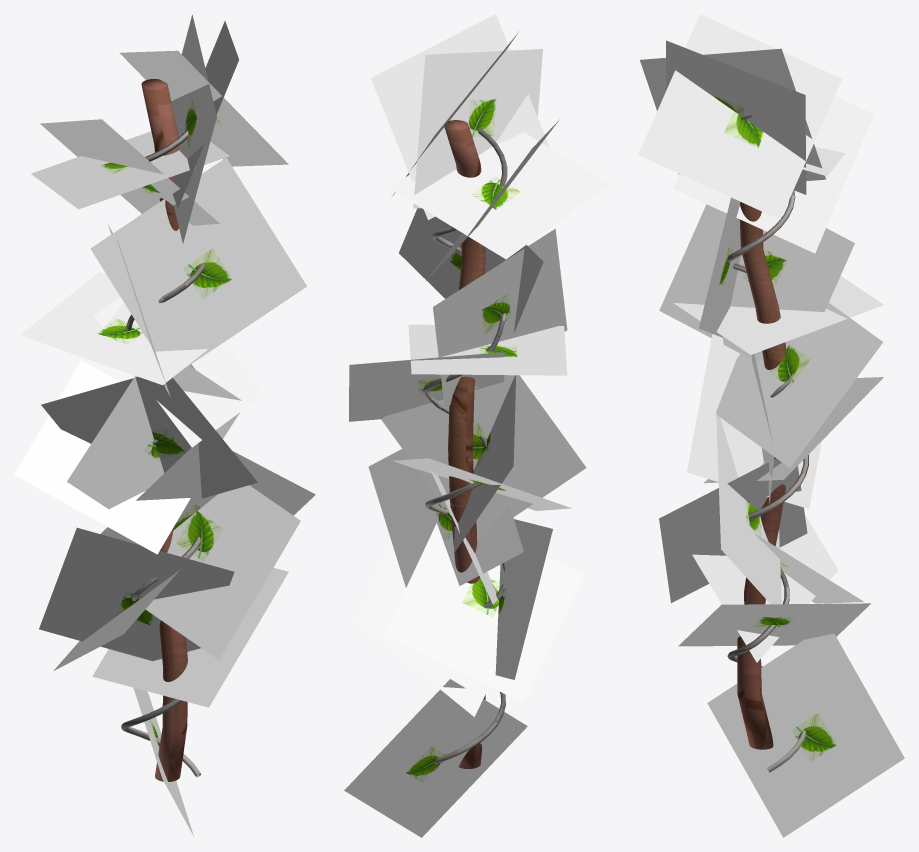
File: rose vines broken.fbx
The picture shows the model from 3 angles, left to right: view 1: azimuth 30°, elevation 25°; view 2: azimuth 150°, elevation 25°; view 3: azimuth 270°, elevation 25°; orthographic projection. The views are drawn at different scales.
Parts seen in each view (by area): view 1: Leaves, Stick _cell, Stick _cell.001, Vines low poly_cell.001, Vines low poly_cell; view 2: Leaves, Stick _cell.001, Vines low poly_cell.001, Stick _cell, Vines low poly_cell; view 3: Leaves, Stick _cell, Stick _cell.001, Vines low poly_cell.001, Vines low poly_cell.
Boxes of the visible parts, x1=… form: Leaves: x1=14, y1=14, x2=315, y2=836; Stick _cell: x1=155, y1=529, x2=187, y2=781; Stick _cell.001: x1=141, y1=79, x2=179, y2=230; Vines low poly_cell.001: x1=121, y1=439, x2=200, y2=777; Vines low poly_cell: x1=125, y1=129, x2=205, y2=368; Leaves: x1=344, y1=14, x2=609, y2=837; Stick _cell.001: x1=444, y1=120, x2=485, y2=506; Vines low poly_cell.001: x1=425, y1=406, x2=505, y2=764; Stick _cell: x1=450, y1=502, x2=485, y2=768; Vines low poly_cell: x1=422, y1=128, x2=507, y2=408; Leaves: x1=638, y1=14, x2=904, y2=837; Stick _cell: x1=737, y1=484, x2=785, y2=749; Stick _cell.001: x1=739, y1=202, x2=785, y2=459; Vines low poly_cell.001: x1=727, y1=454, x2=808, y2=772; Vines low poly_cell: x1=727, y1=114, x2=795, y2=397.
Bounding box in the file's own units: 185 × 571 × 173.
